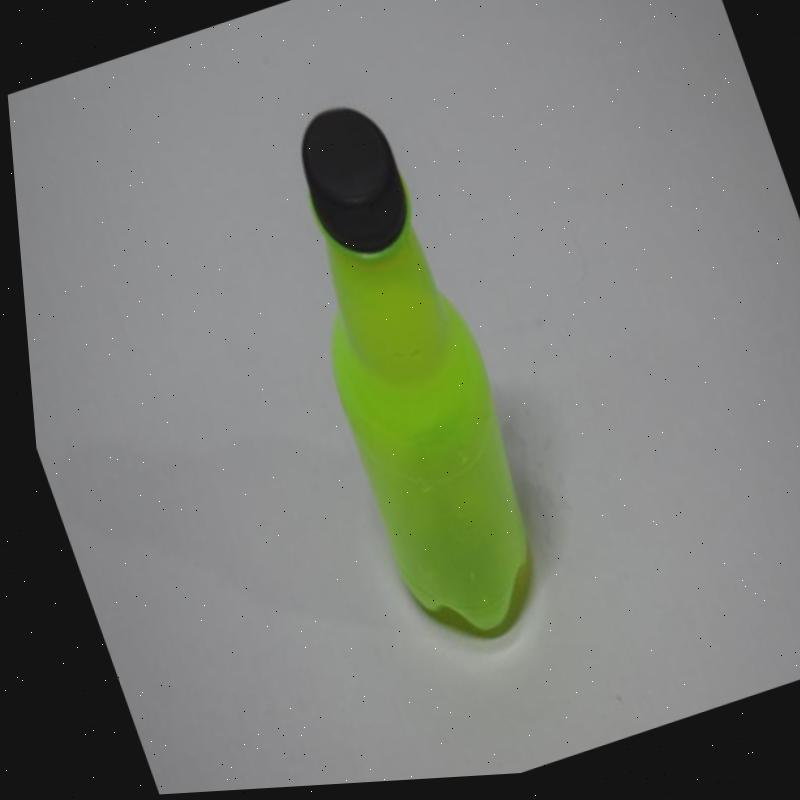botella: (234, 83, 565, 665)
